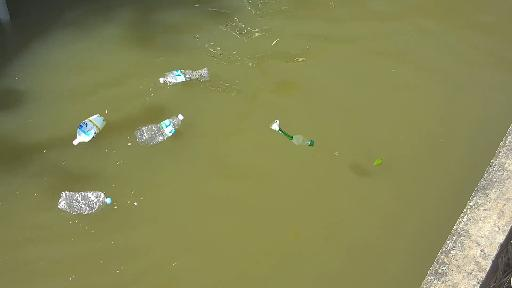leaf: (365, 154, 389, 170)
plastic: (249, 101, 323, 152), (148, 52, 224, 98), (54, 176, 118, 219), (58, 99, 105, 151), (129, 113, 188, 146)
